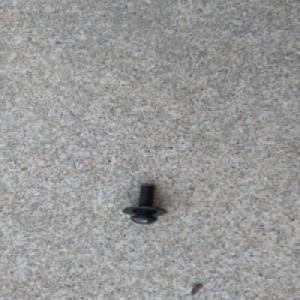BoltWasher: (117, 182, 166, 225)
